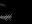person: (1, 11, 11, 21), (1, 1, 6, 5)
